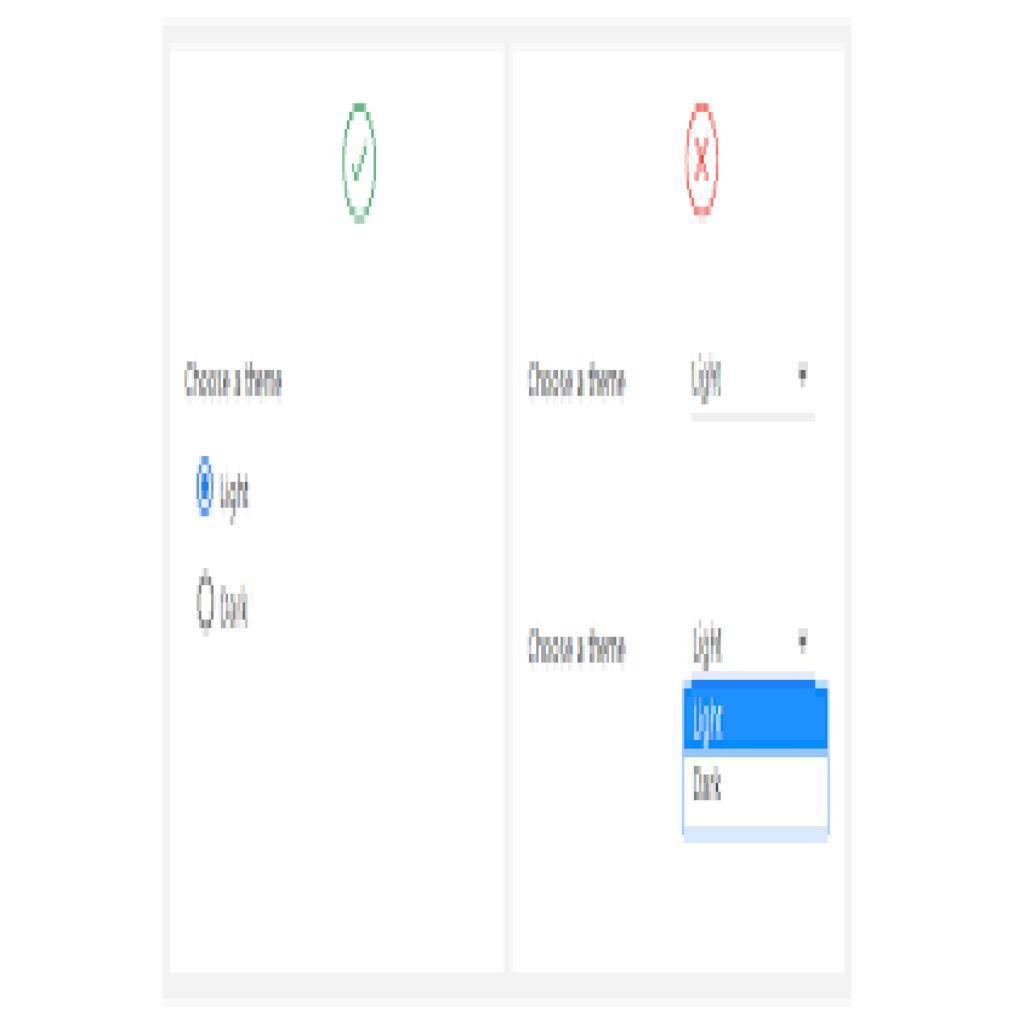button: (683, 680, 831, 759)
radio: (341, 102, 379, 226), (685, 103, 719, 226), (193, 456, 218, 522), (195, 570, 218, 639)
